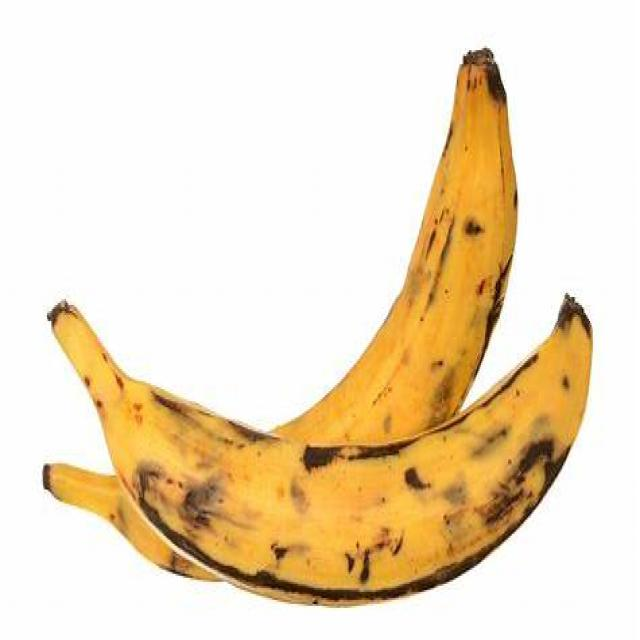Banana: (38, 52, 516, 586), (49, 297, 593, 602)
